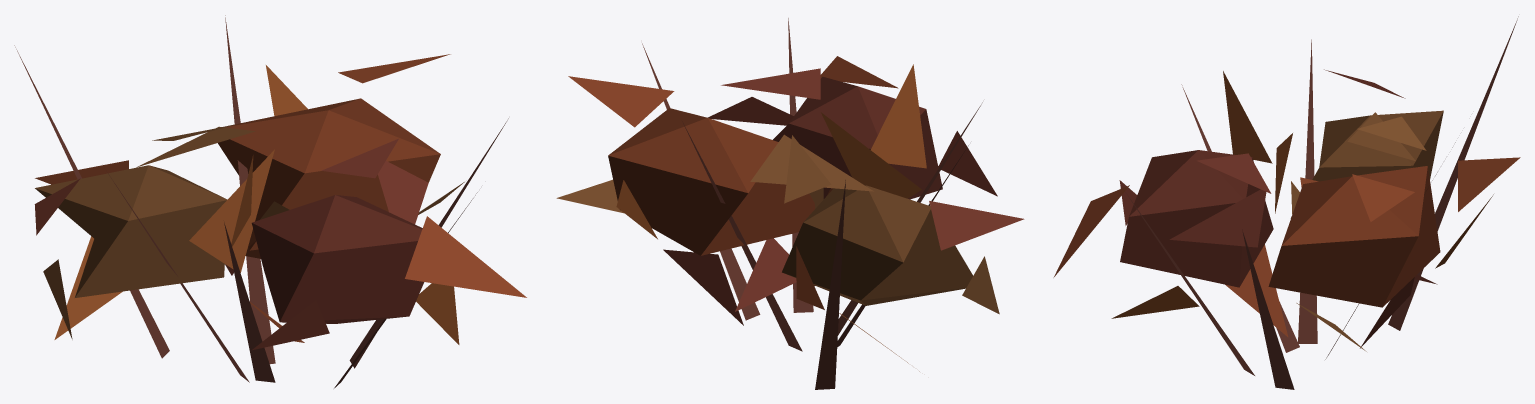
The model's file is wild-rose-lite.glb.
The picture shows the model from 3 angles, left to right: view 1: azimuth 30°, elevation 25°; view 2: azimuth 150°, elevation 25°; view 3: azimuth 270°, elevation 25°; orthographic projection. The views are drawn at different scales.
Parts seen in each view (by area): view 1: wild-rose-lite / foliage, wild-rose-lite / wood; view 2: wild-rose-lite / foliage, wild-rose-lite / wood; view 3: wild-rose-lite / foliage, wild-rose-lite / wood.
Boxes of the visible parts, bbox=[...] form: wild-rose-lite / foliage: bbox=[34, 54, 526, 350]; wild-rose-lite / wood: bbox=[14, 15, 508, 388]; wild-rose-lite / foliage: bbox=[556, 56, 1024, 371]; wild-rose-lite / wood: bbox=[642, 18, 982, 389]; wild-rose-lite / foliage: bbox=[1053, 69, 1520, 351]; wild-rose-lite / wood: bbox=[1125, 16, 1518, 389].
Bounding box in the file's own units: 1.12 × 0.6673 × 1.03.
